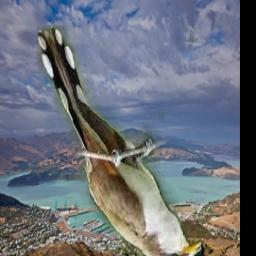Cuckoo: (37, 25, 201, 256)
